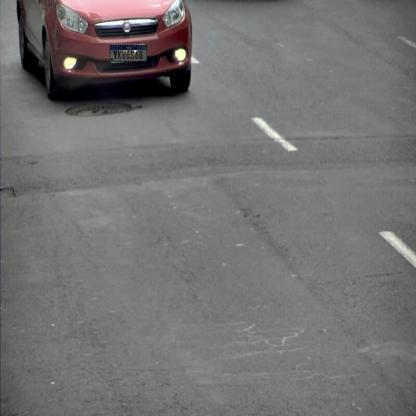PlacaM: (110, 45, 147, 62)
